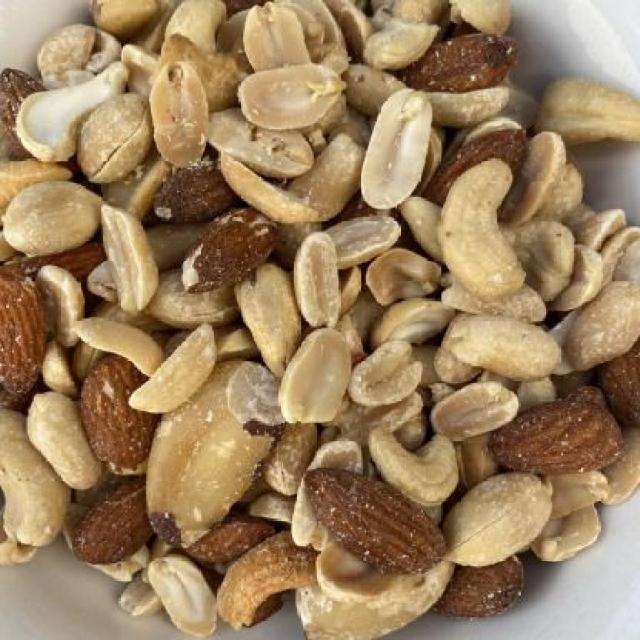Frutta secca: (10, 22, 633, 620)
